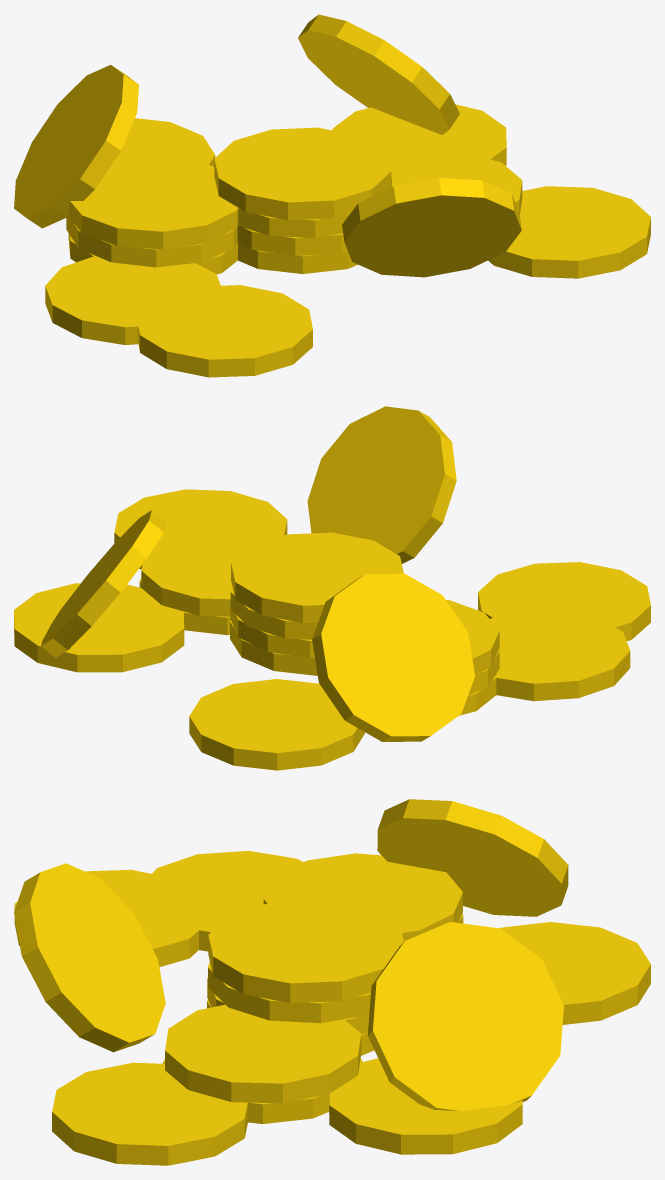
File: GoldCoinPile.fbx
3 renders of one model, top to bottom at view 1: azimuth 30°, elevation 25°; view 2: azimuth 150°, elevation 25°; view 3: azimuth 270°, elevation 25°, orthographic. The views are drawn at different scales.
Parts seen in each view (by area): view 1: GoldCoinPile_CoinMat_pile; view 2: GoldCoinPile_CoinMat_pile; view 3: GoldCoinPile_CoinMat_pile.
Boxes of the visible parts, x1=… form: GoldCoinPile_CoinMat_pile: x1=14, y1=14, x2=650, y2=377; GoldCoinPile_CoinMat_pile: x1=14, y1=406, x2=650, y2=770; GoldCoinPile_CoinMat_pile: x1=14, y1=799, x2=650, y2=1165.
Bounding box in the file's own units: 223 × 55.74 × 204.
